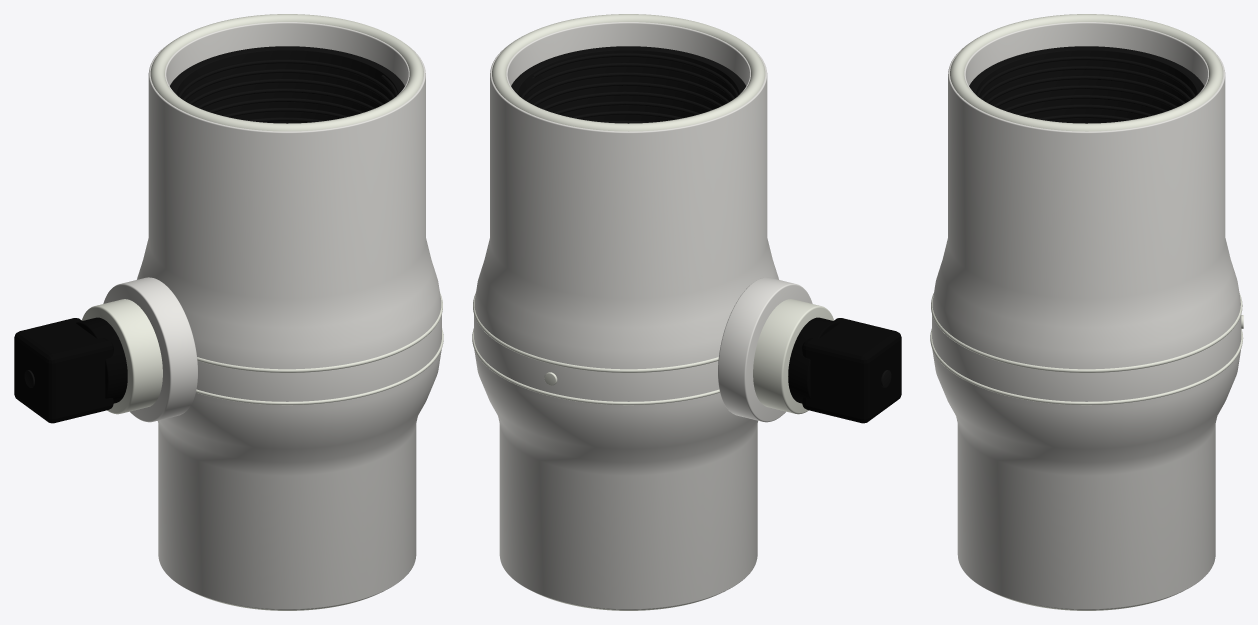
The model's file is case-37-ball-valve.glb.
3 views of the same model, side by side, from view 1: azimuth 30°, elevation 25°; view 2: azimuth 150°, elevation 25°; view 3: azimuth 270°, elevation 25° (orthographic).
Visible parts, largest first — view 1: Unbranded smooth valve housing, actuator central fastener recess, central seam molding witness, black actuator round root; view 2: Unbranded smooth valve housing, actuator central fastener recess, central seam molding witness, black actuator round root; view 3: Unbranded smooth valve housing, actuator central fastener recess, central seam molding witness.
Boxes of the visible parts, x1=… form: Unbranded smooth valve housing: x1=103, y1=22, x2=441, y2=609; actuator central fastener recess: x1=24, y1=46, x2=404, y2=387; central seam molding witness: x1=81, y1=14, x2=443, y2=610; black actuator round root: x1=14, y1=317, x2=127, y2=423; Unbranded smooth valve housing: x1=474, y1=22, x2=812, y2=609; actuator central fastener recess: x1=511, y1=46, x2=891, y2=387; central seam molding witness: x1=472, y1=14, x2=834, y2=610; black actuator round root: x1=788, y1=317, x2=901, y2=423; Unbranded smooth valve housing: x1=932, y1=22, x2=1241, y2=609; actuator central fastener recess: x1=969, y1=46, x2=1204, y2=123; central seam molding witness: x1=930, y1=14, x2=1243, y2=610.
Bounding box in the file's own units: 0.1411 × 0.1678 × 0.0973.
5 materials, 5 textured.
